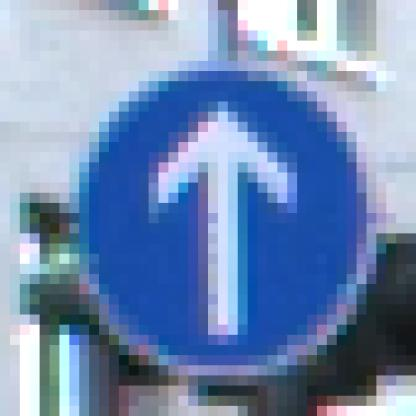AheadOnly: (61, 52, 358, 356)
